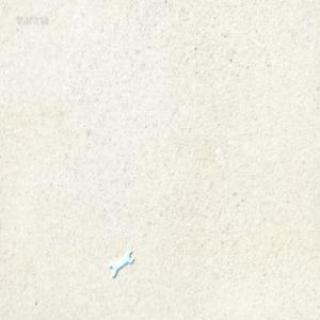Wrenchtrack_idkeyframe: (109, 246, 133, 276)
